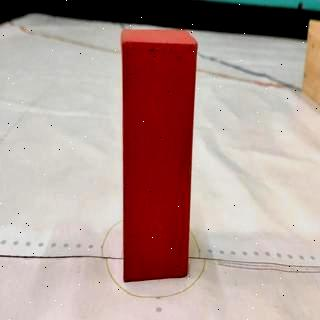redbox: (120, 28, 197, 283)
